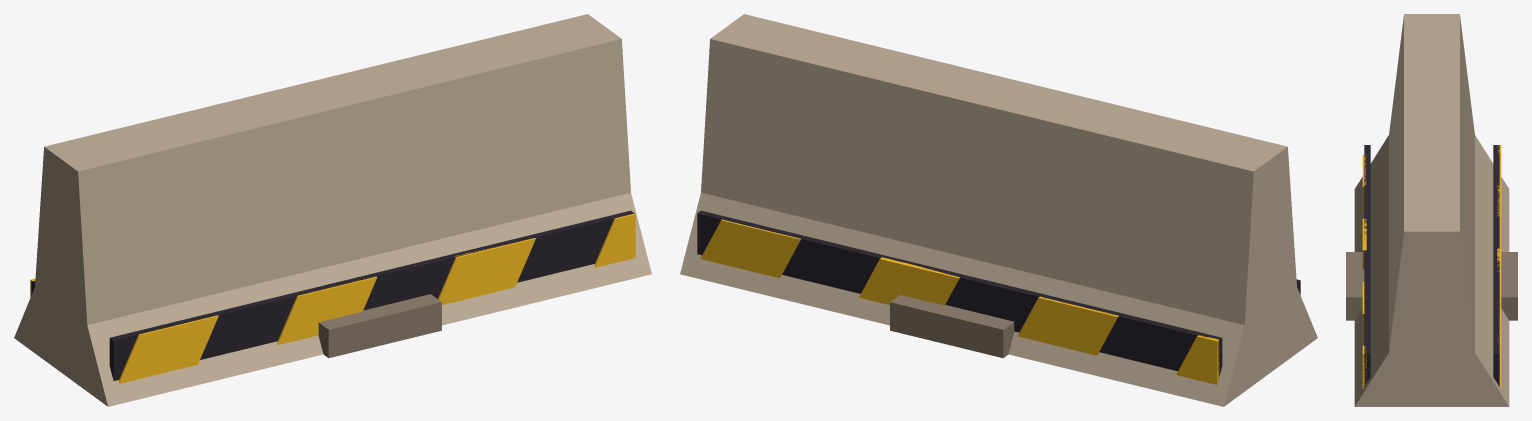
The model's file is dune_barrier.glb.
3 views of the same model, side by side, from view 1: azimuth 30°, elevation 25°; view 2: azimuth 150°, elevation 25°; view 3: azimuth 270°, elevation 25° (orthographic). The views are drawn at different scales.
Visible parts, largest first — view 1: Barrier; view 2: Barrier; view 3: Barrier.
Part boxes in pixels (bbox=[...]): Barrier: bbox=[14, 14, 651, 406]; Barrier: bbox=[680, 14, 1317, 406]; Barrier: bbox=[1346, 14, 1517, 406].
Size of the model in its own units: 2.4 by 0.9 by 0.8.
